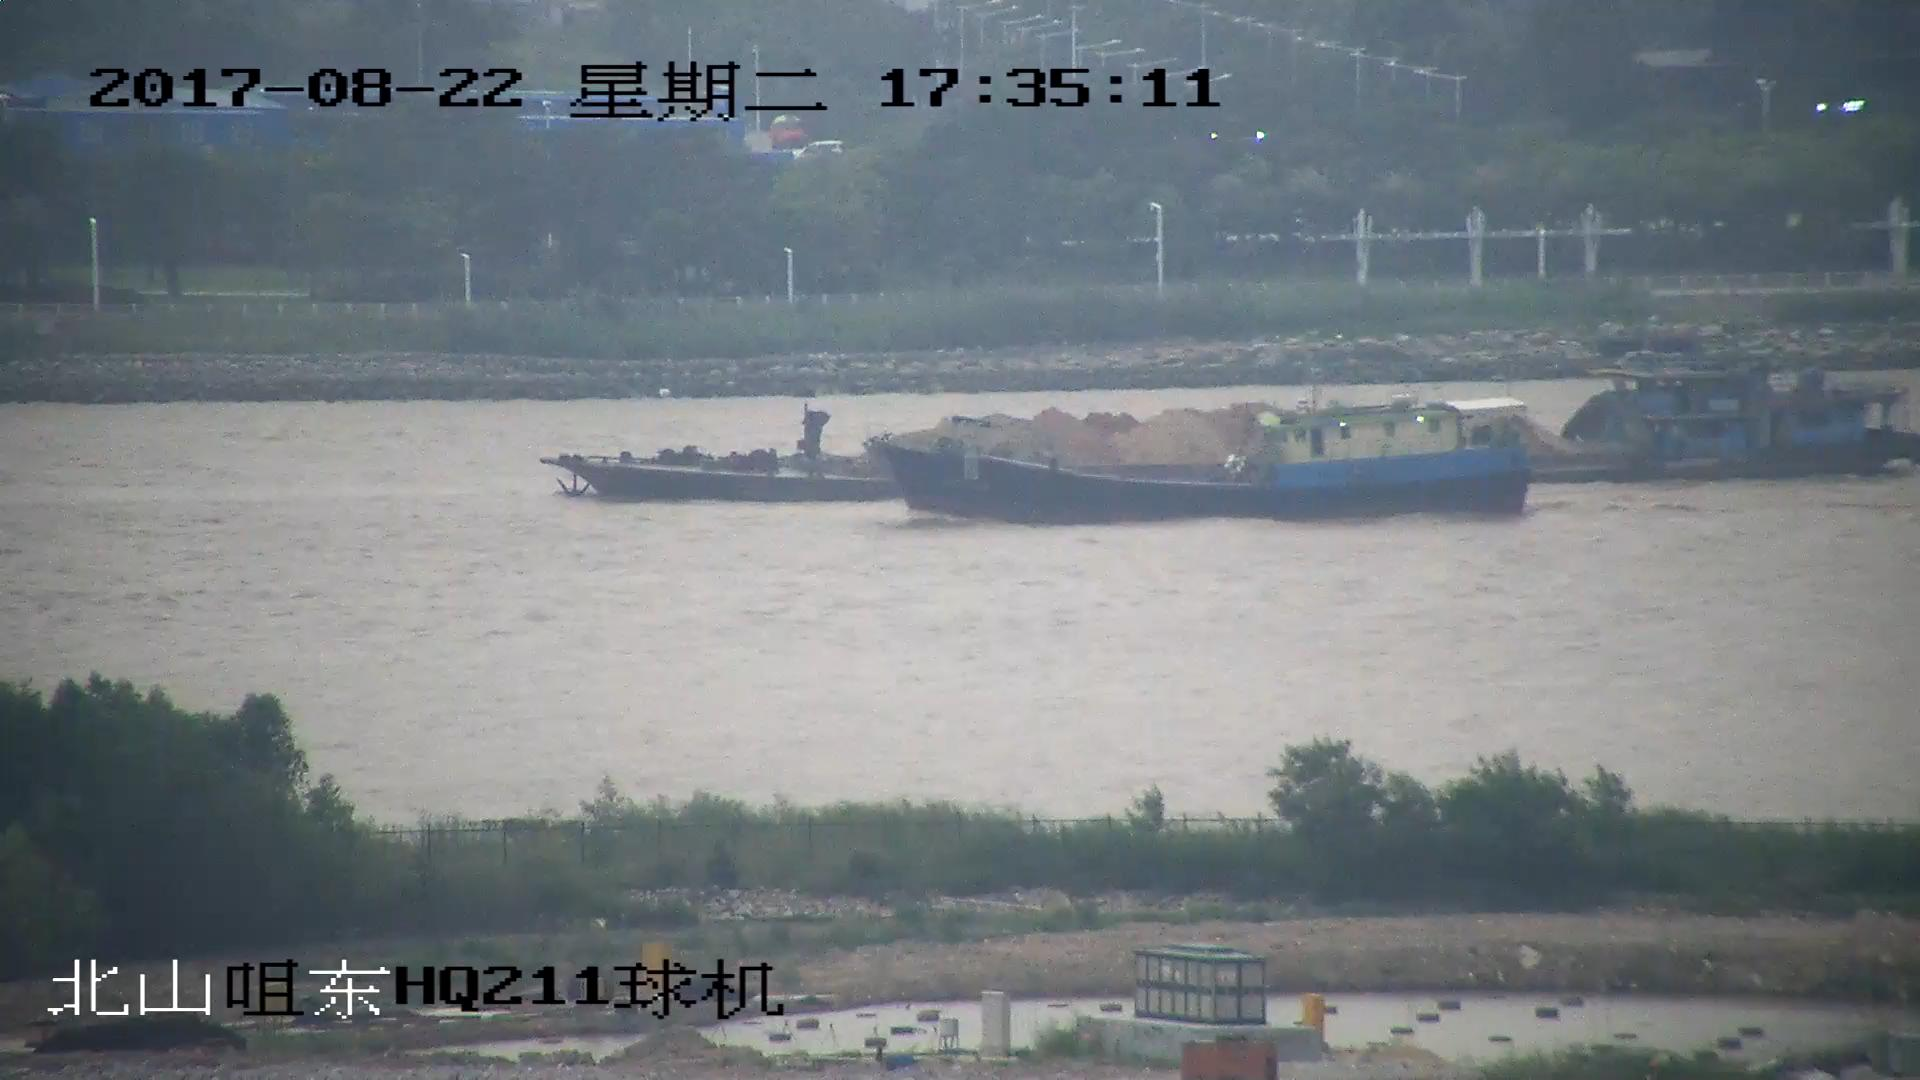fishing boat: (880, 388, 1525, 522)
ore carrier: (550, 358, 1920, 499)
